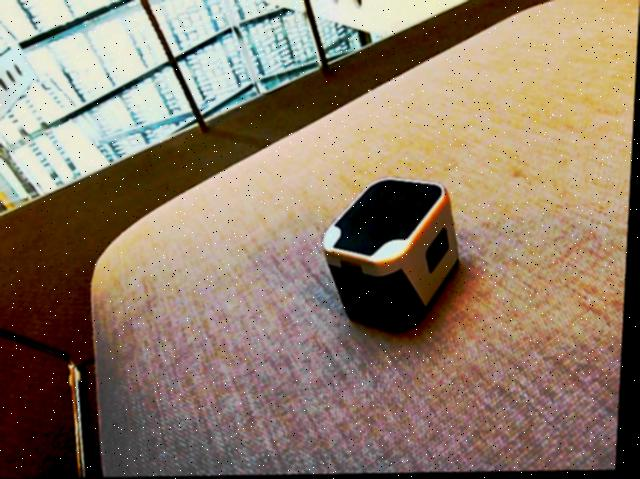adapter: (321, 176, 466, 335)
